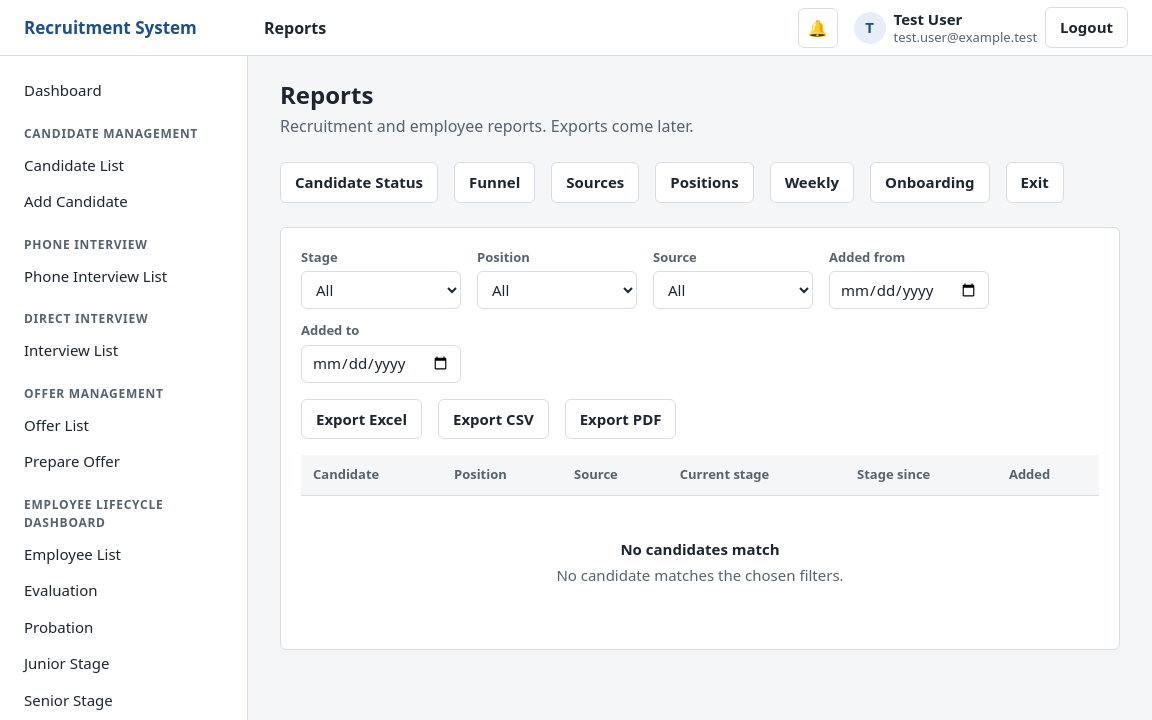
Test: report exports › buttons disable while an export is being prepared
Expected: the text "No candidates match" is shown, [620,538,780,558]
Click the button "Export Excel".
click(362, 419)  # box [301,398,422,439]
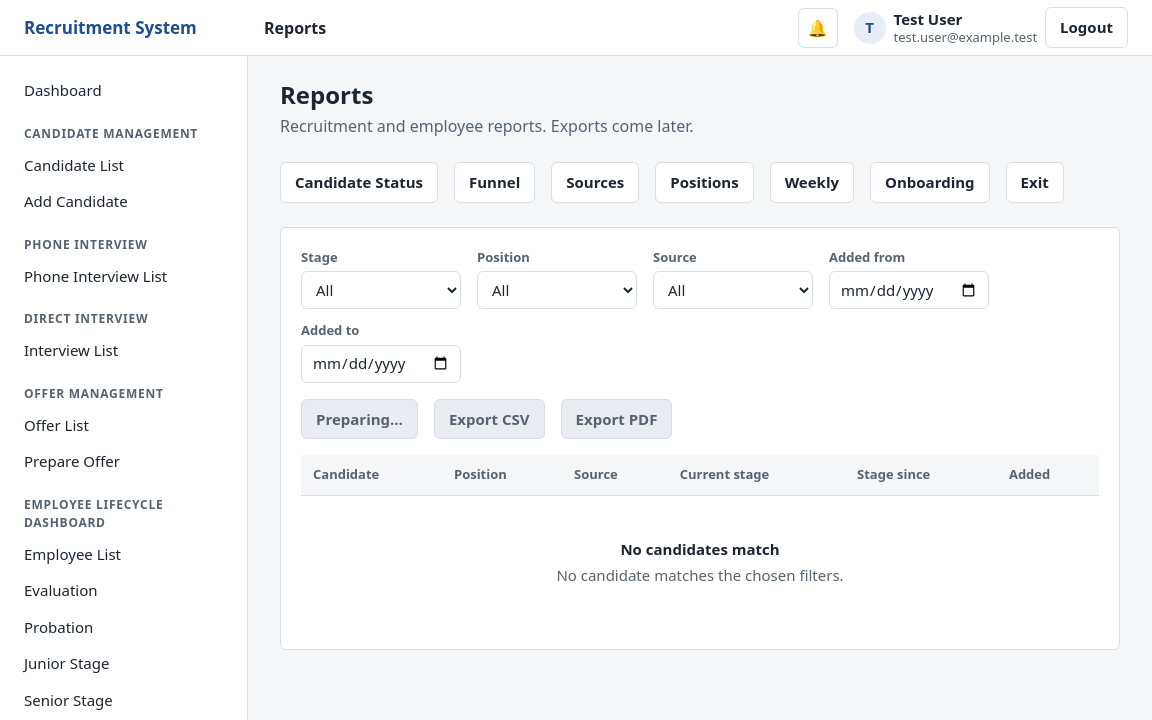
Result: the button "Preparing…" is shown at [301,398,418,439]
Result: the button "Export CSV" is disabled at [434,398,544,439]
